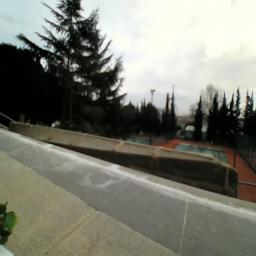herb: (1, 200, 20, 248)
